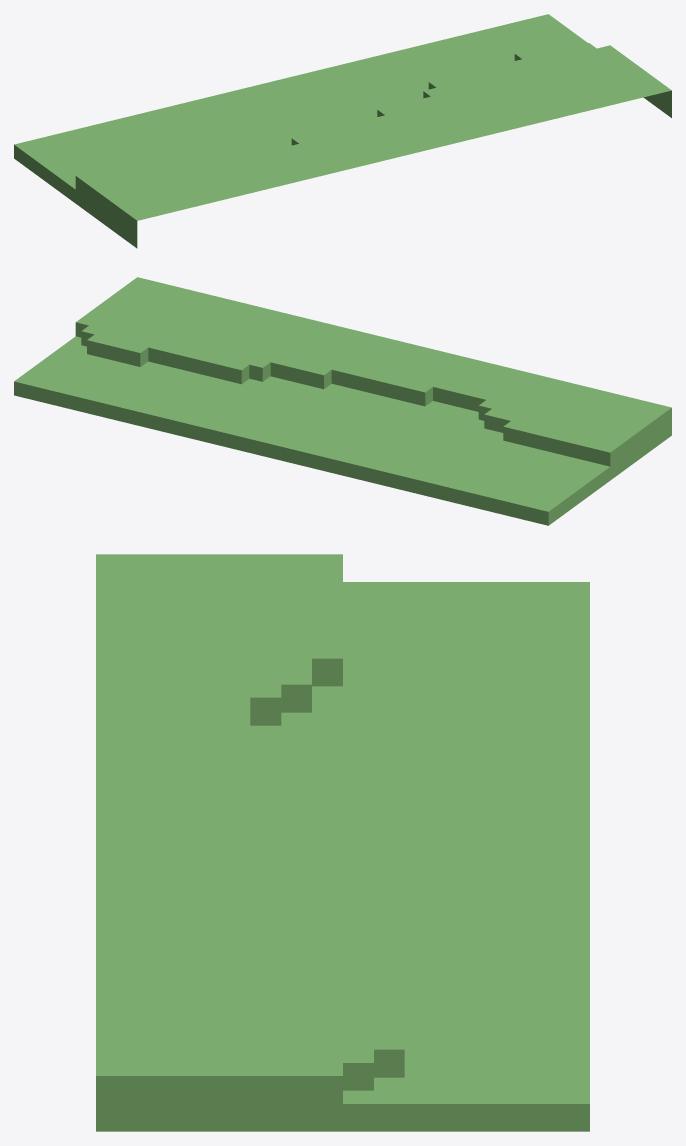
Rendered from Straight5-1step-4.fbx.
3 views of the same model, one above another, from view 1: azimuth 30°, elevation 25°; view 2: azimuth 150°, elevation 25°; view 3: azimuth 270°, elevation 25° (orthographic). The views are drawn at different scales.
Visible parts, largest first — view 1: Straight5-1step-4; view 2: Straight5-1step-4; view 3: Straight5-1step-4.
Part boxes in pixels (x1,y1,x2,y2): Straight5-1step-4: [14, 14, 671, 248]; Straight5-1step-4: [14, 277, 671, 525]; Straight5-1step-4: [96, 554, 589, 1131].
Bounding box in the file's own units: 40 × 2 × 16.
Materials: 1 (1 with a texture image).
